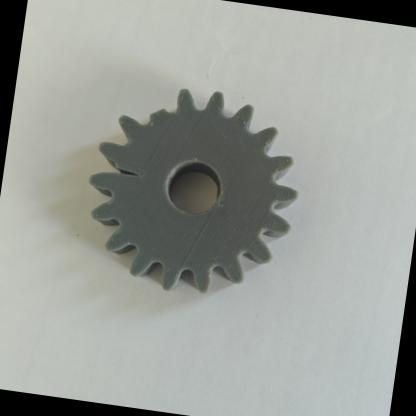defect: (77, 132, 159, 208), (120, 70, 196, 140)
gear: (57, 55, 328, 318)
